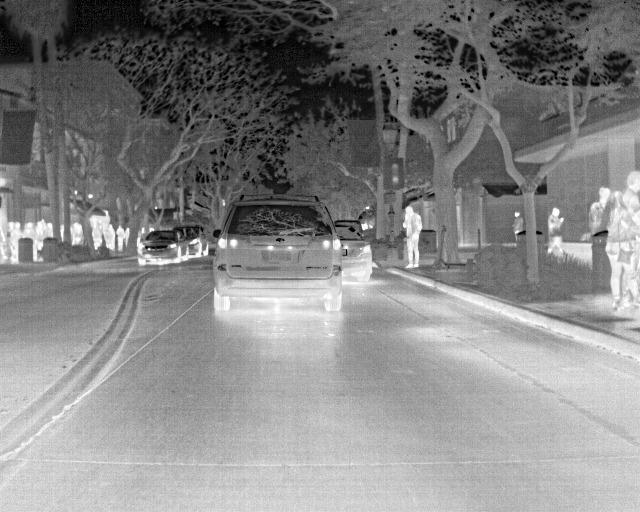bicycle: (212, 192, 347, 316), (337, 225, 374, 278), (137, 232, 183, 268), (173, 223, 206, 257)
empty: (607, 191, 625, 307), (400, 205, 423, 270), (544, 205, 566, 258), (594, 184, 612, 236), (511, 210, 526, 245), (90, 220, 102, 250), (106, 222, 118, 252), (114, 224, 126, 252)
